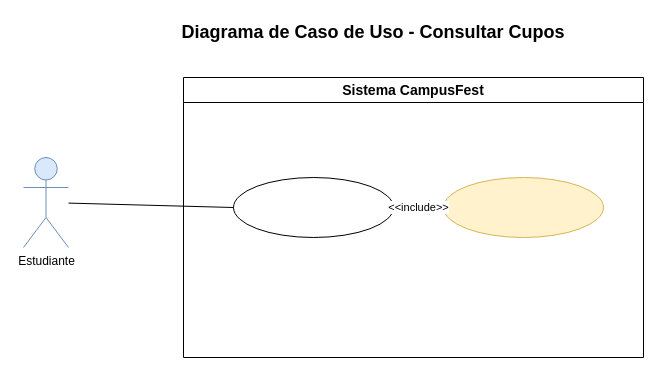
Image size: 661x375. Some labels were removed from this diagram. Each missing label, with the centre of its shape:
"Buscar / Consultar evento" goes at point (523, 207).
"Consultar cupos de evento" goes at point (313, 207).
